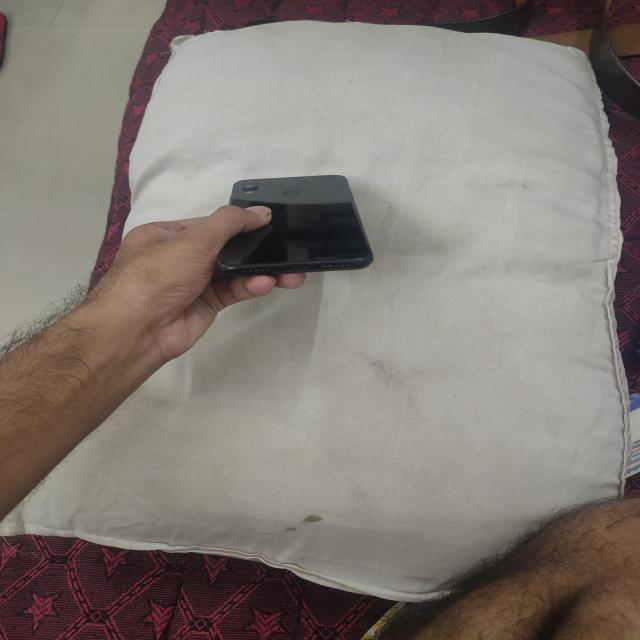Phone: (210, 171, 377, 278)
